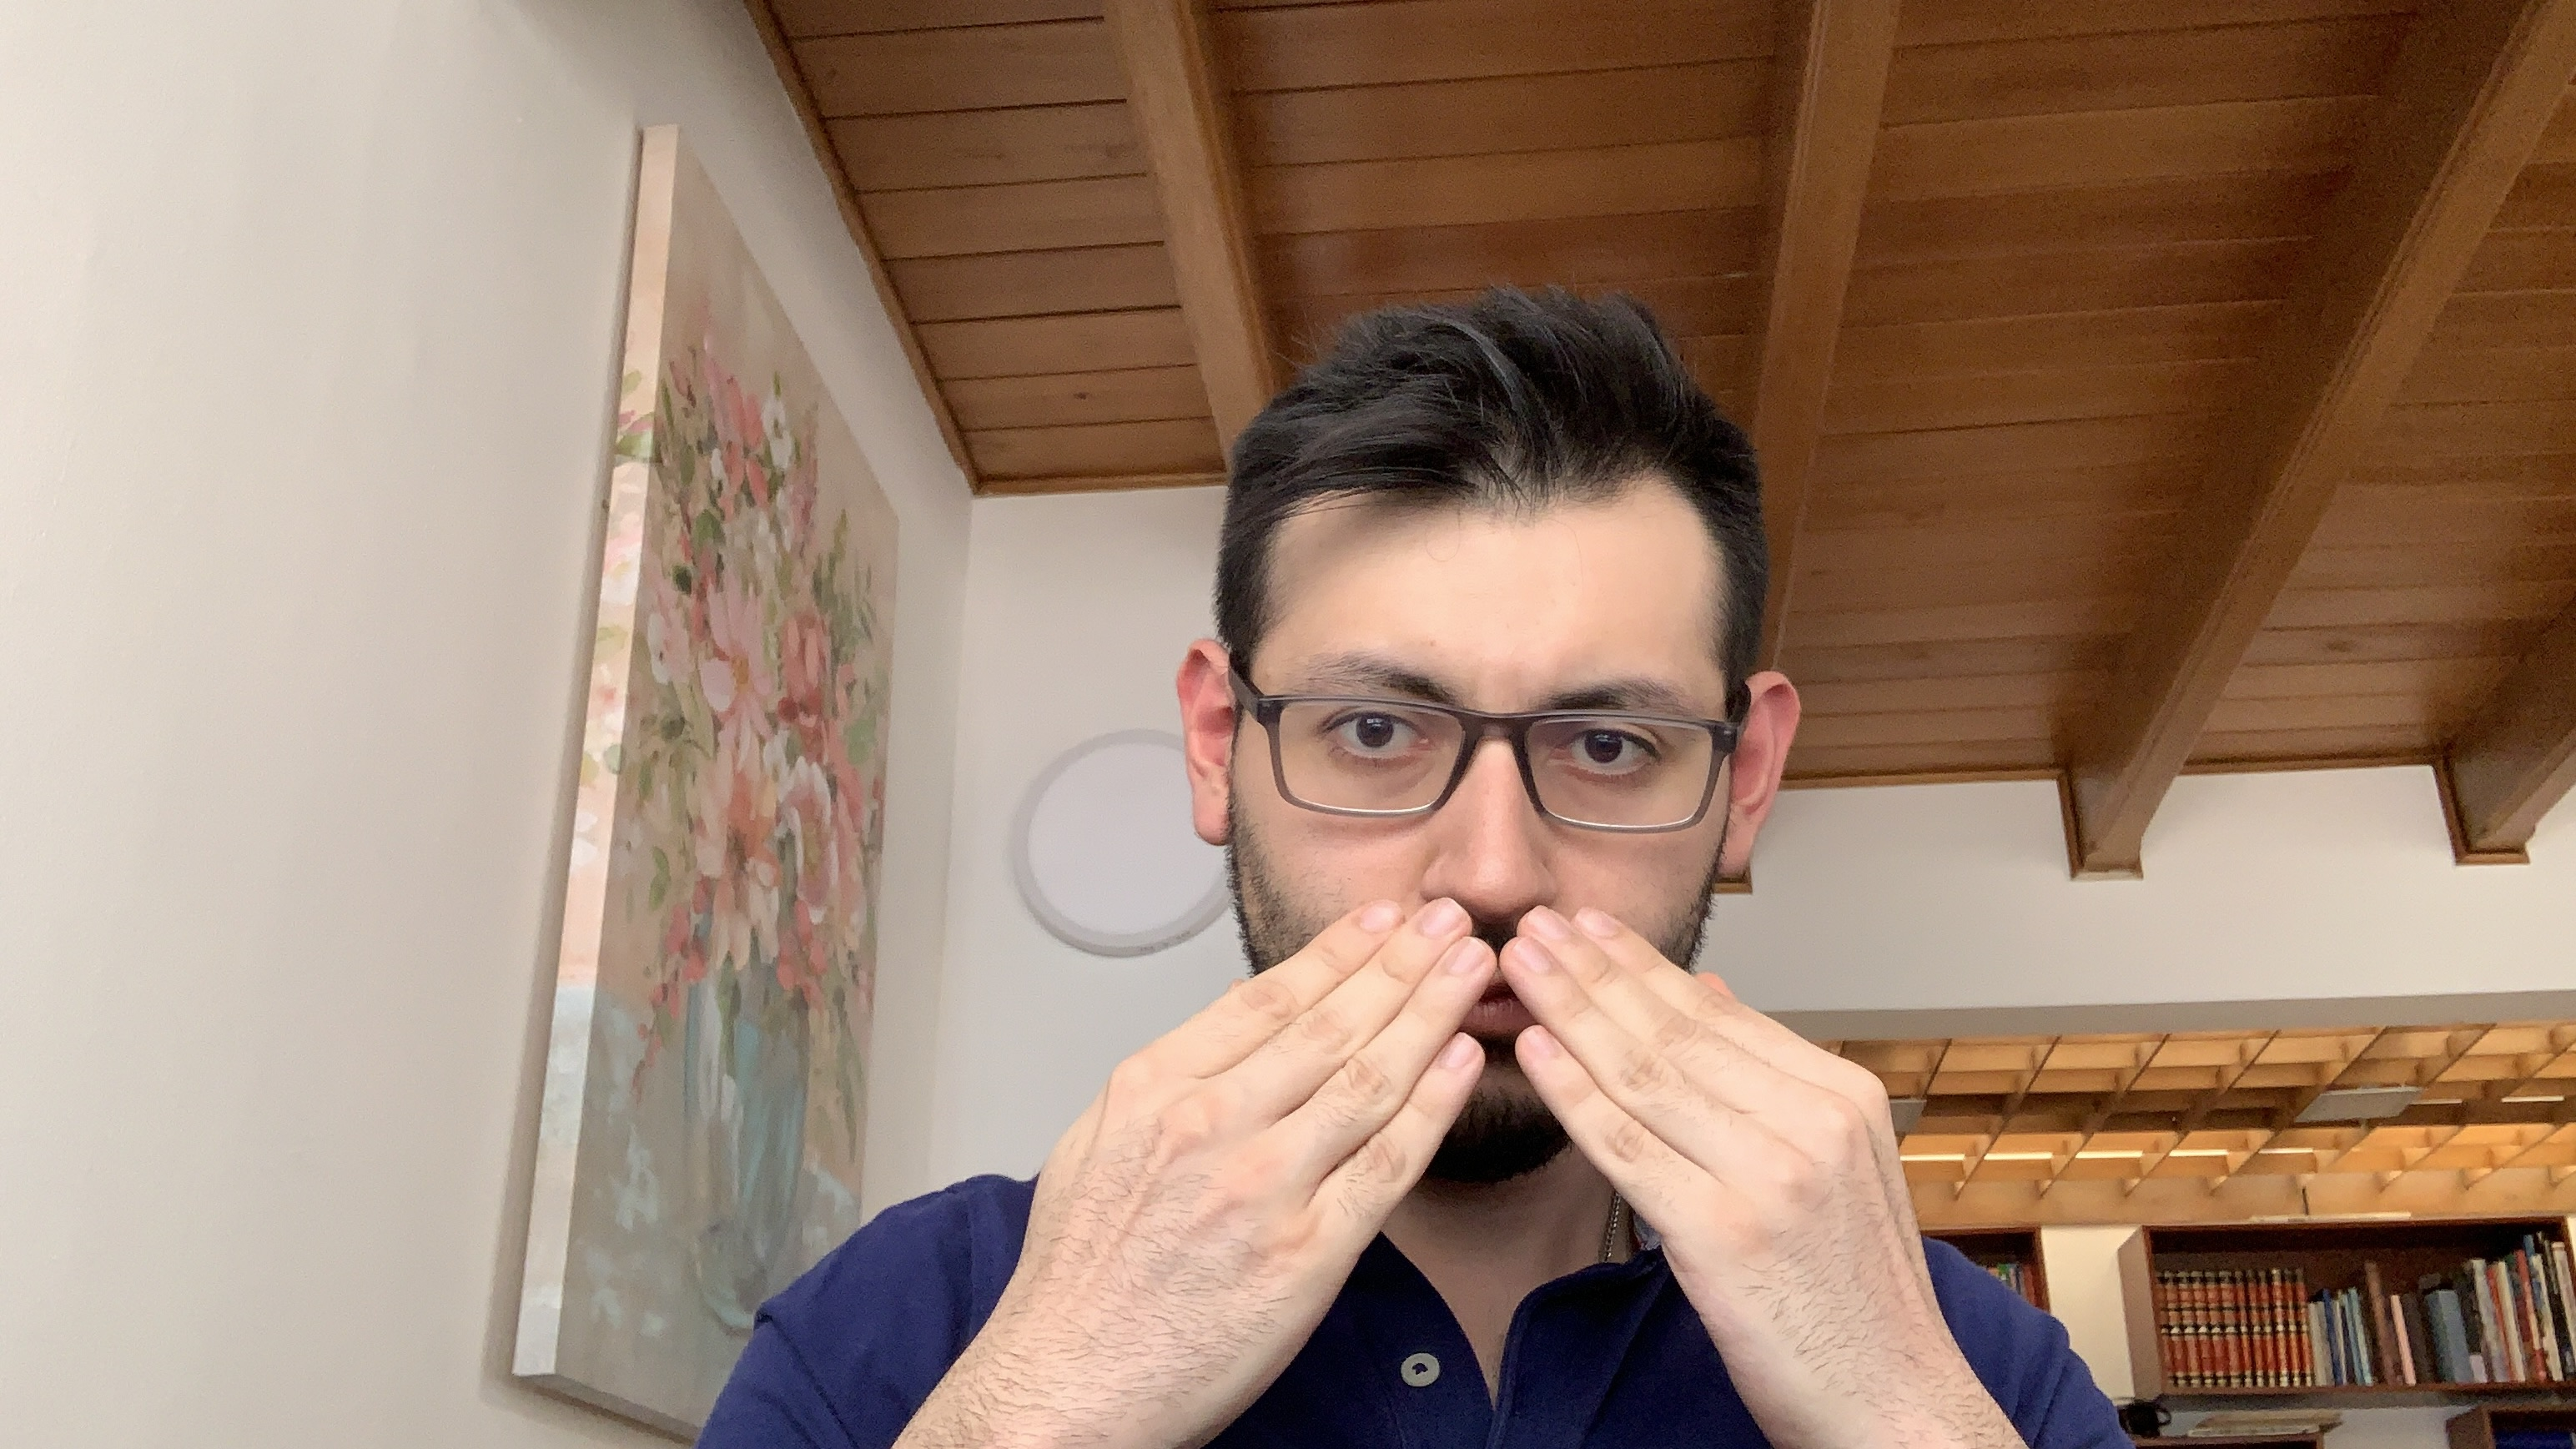Thank You: (989, 886, 2001, 1391)
